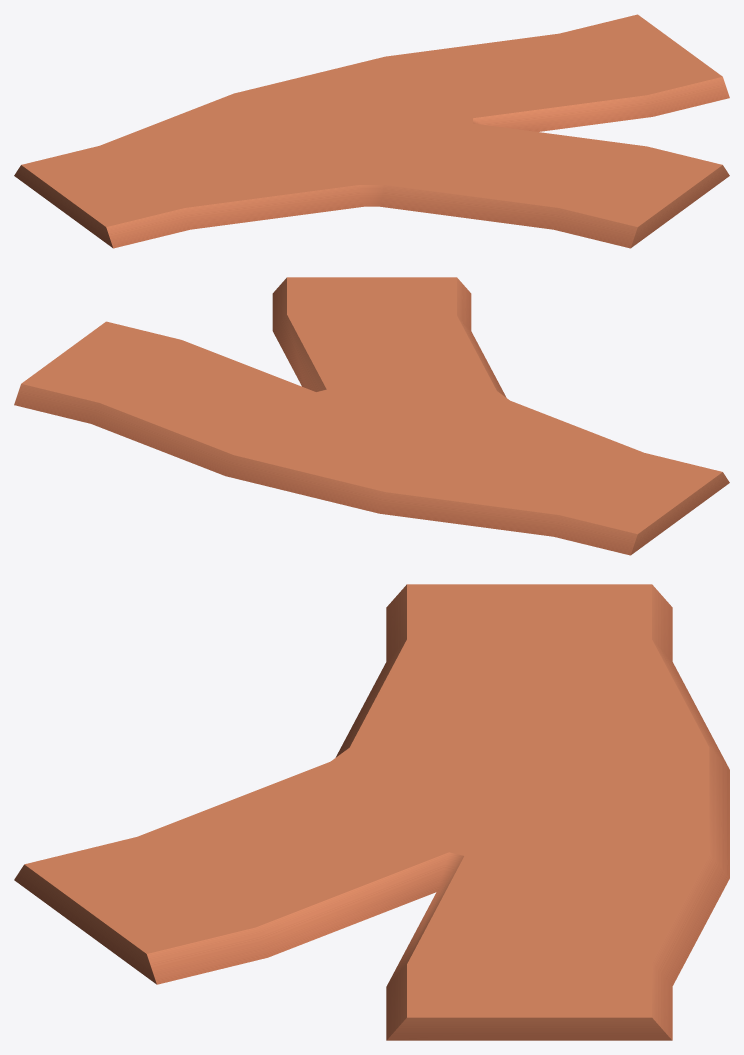
File: path-intersectionC.gltf
3 renders of one model, top to bottom at view 1: azimuth 30°, elevation 25°; view 2: azimuth 150°, elevation 25°; view 3: azimuth 270°, elevation 25°, orthographic. The views are drawn at different scales.
Visible parts, largest first — view 1: path_intersectionC; view 2: path_intersectionC; view 3: path_intersectionC.
Boxes of the visible parts, x1=… form: path_intersectionC: x1=14, y1=14, x2=729, y2=248; path_intersectionC: x1=14, y1=277, x2=729, y2=555; path_intersectionC: x1=14, y1=584, x2=729, y2=1040.
Bounding box in the file's own units: 1 × 0.025 × 0.6983.
Materials: 1 (1 with a texture image).
